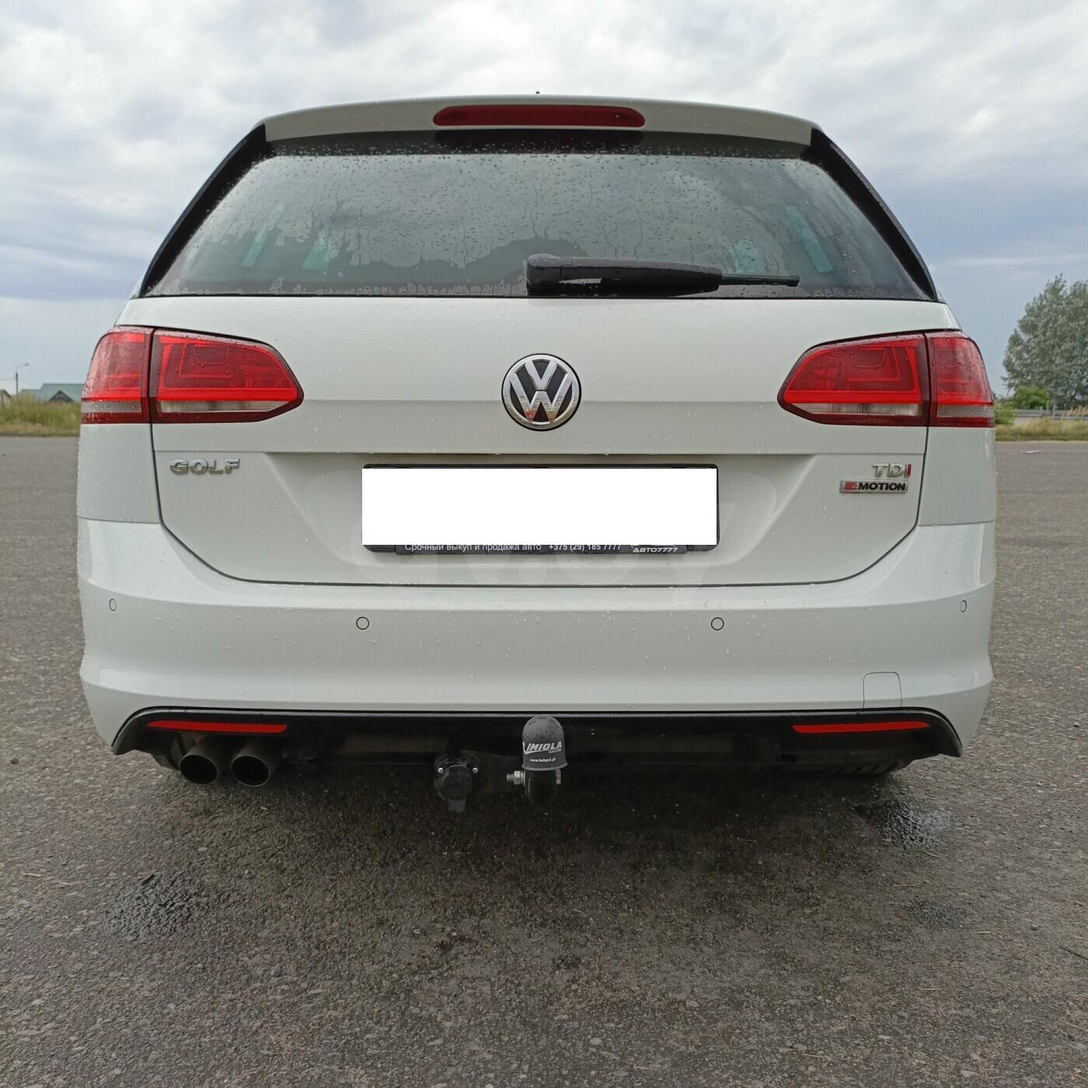Golf_2012-2017: (56, 82, 1007, 816)
